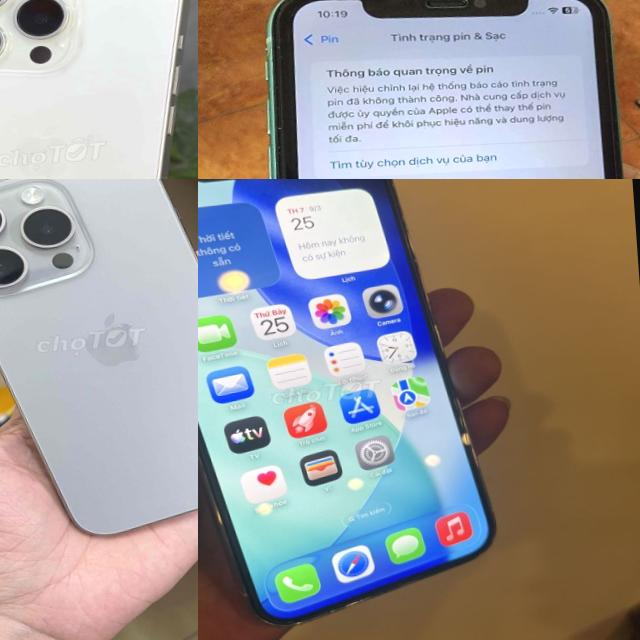gen_11: (219, 0, 640, 179)
gen_12_13: (198, 179, 504, 636)
gen_15: (0, 179, 198, 561), (0, 0, 198, 179)
